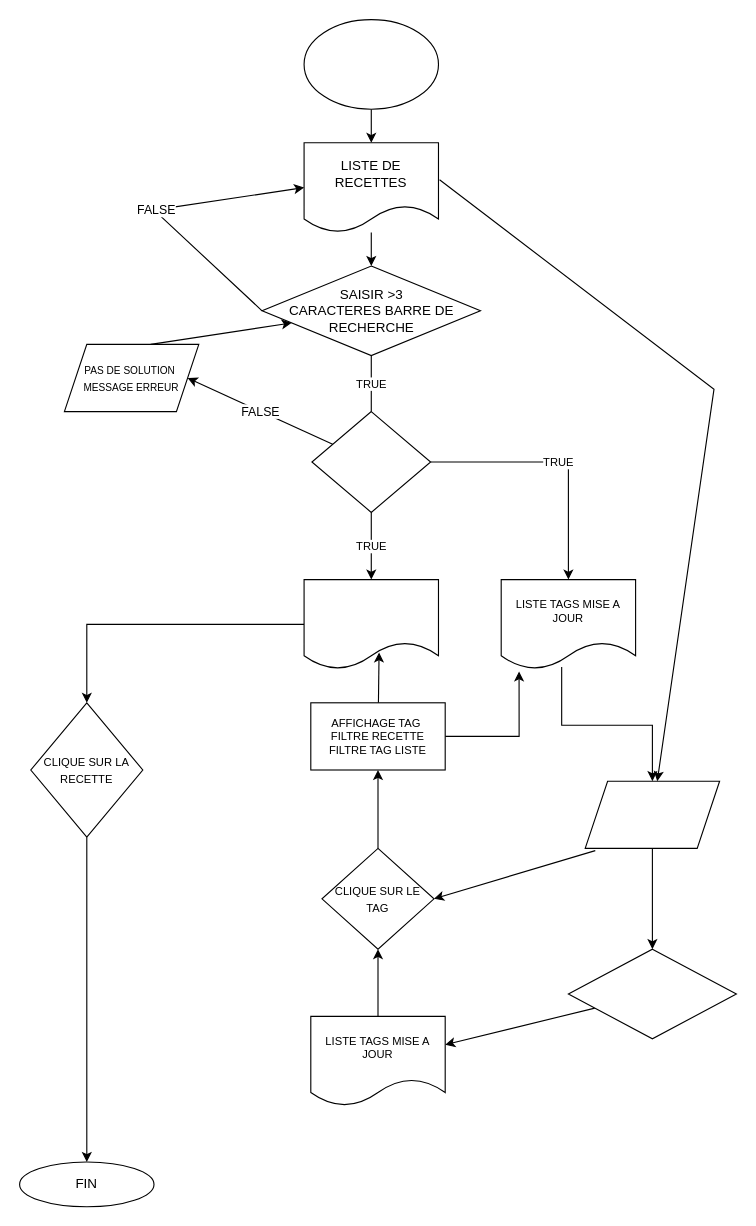
Some shapes in this 756 by 1226 pixel diagram are drawn without their labels. The centre of each missing label's shape, as x and y in pixels:
"LISTE DE RECETTES A JOUR" belongs at (x=370, y=623).
"RECHERCHE PAR TAG" belongs at (x=652, y=814).
"RESULTAT TROUVE" belongs at (x=371, y=461).
"SAISIR MOT CLE BARRE DE RECHERCHE TAG" belongs at (x=651, y=993).
"START" belongs at (x=370, y=63).
